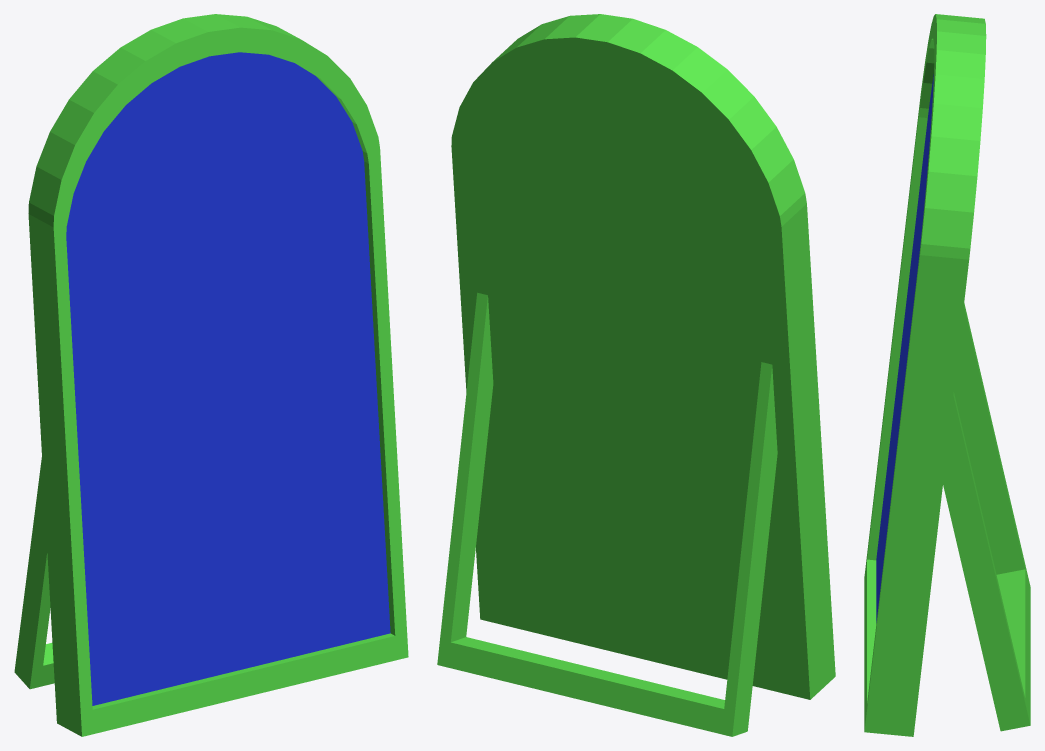
The model's file is new_mirror.fbx.
The picture shows the model from 3 angles, left to right: view 1: azimuth 30°, elevation 25°; view 2: azimuth 150°, elevation 25°; view 3: azimuth 270°, elevation 25°; orthographic projection. The views are drawn at different scales.
Visible parts, largest first — view 1: mirror.002; view 2: mirror.002; view 3: mirror.002.
Part boxes in pixels (x1,y1,x2,y2): mirror.002: (14,14,408,736); mirror.002: (437,14,835,736); mirror.002: (864,14,1030,736).
Size of the model in its own units: 543 by 1025 by 245.
